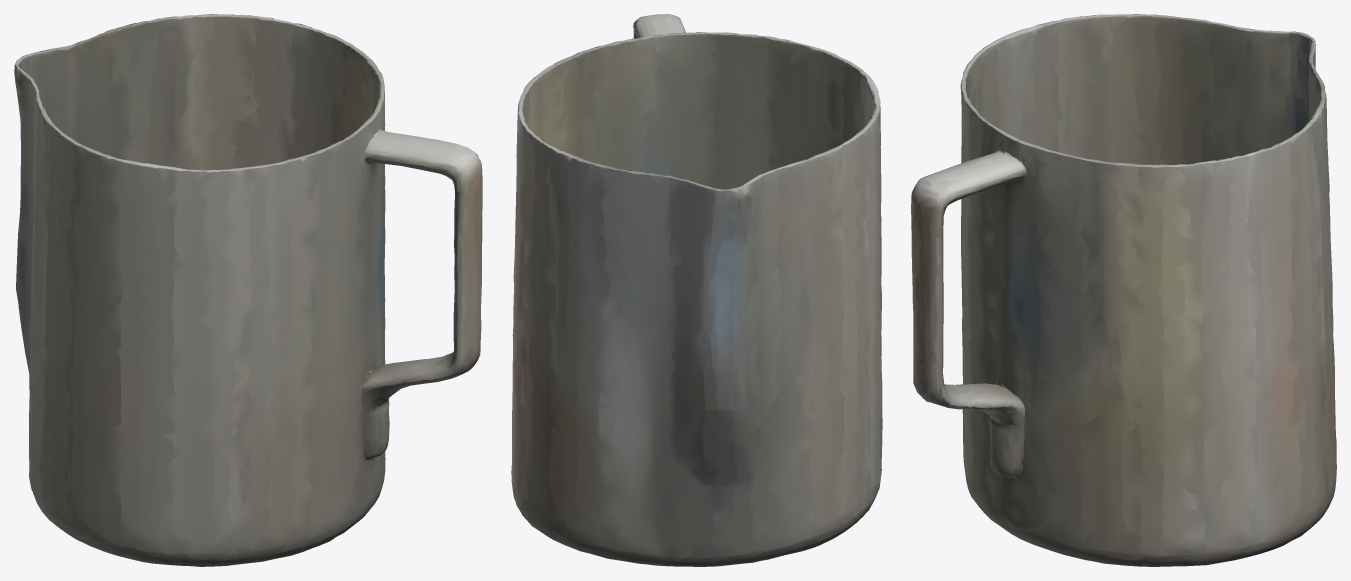
Rendered from 0008_mask_009_metal_pitcher.glb.
3 renders of one model, left to right at view 1: azimuth 30°, elevation 25°; view 2: azimuth 150°, elevation 25°; view 3: azimuth 270°, elevation 25°, orthographic. The views are drawn at different scales.
Parts seen in each view (by area): view 1: mask_009_object; view 2: mask_009_object; view 3: mask_009_object.
Part boxes in pixels (<box>): mask_009_object: <box>14,14,482,566</box>; mask_009_object: <box>511,14,882,566</box>; mask_009_object: <box>911,14,1336,566</box>.
Size of the model in its own units: 0.1534 by 0.1809 by 0.1714.
